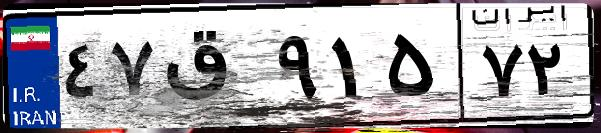1: (330, 28, 385, 110)
2: (525, 38, 570, 115)
4: (57, 26, 110, 100)
5: (385, 28, 445, 110)
7: (475, 38, 525, 113), (110, 28, 158, 98)
9: (270, 28, 330, 110)
ق: (158, 20, 270, 120)
